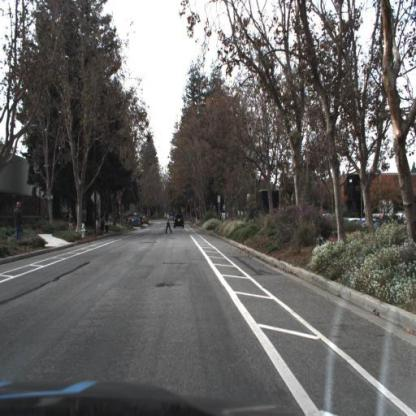car: (173, 211, 187, 231)
pedestrian: (14, 199, 24, 243), (67, 206, 76, 233), (165, 210, 174, 236)
